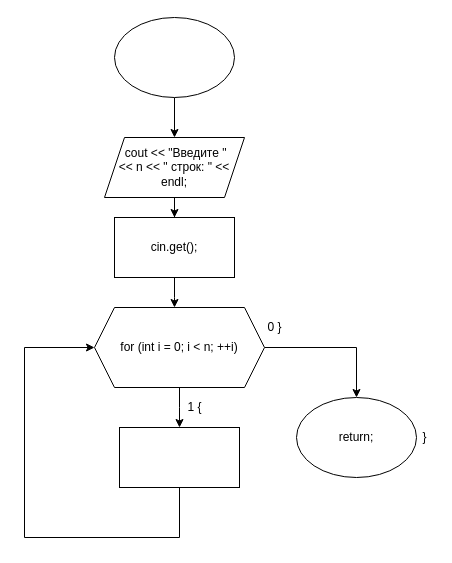
Image size: 452x563. Some labels were removed from this diagram. The centre of each missing label's shape, as x and y in pixels:
"cin.getline(rows[i], LENGTH);" goes at pixel 179 457.
"void fill_matrix(char** rows, unsigned int n)" goes at pixel 174 57.
